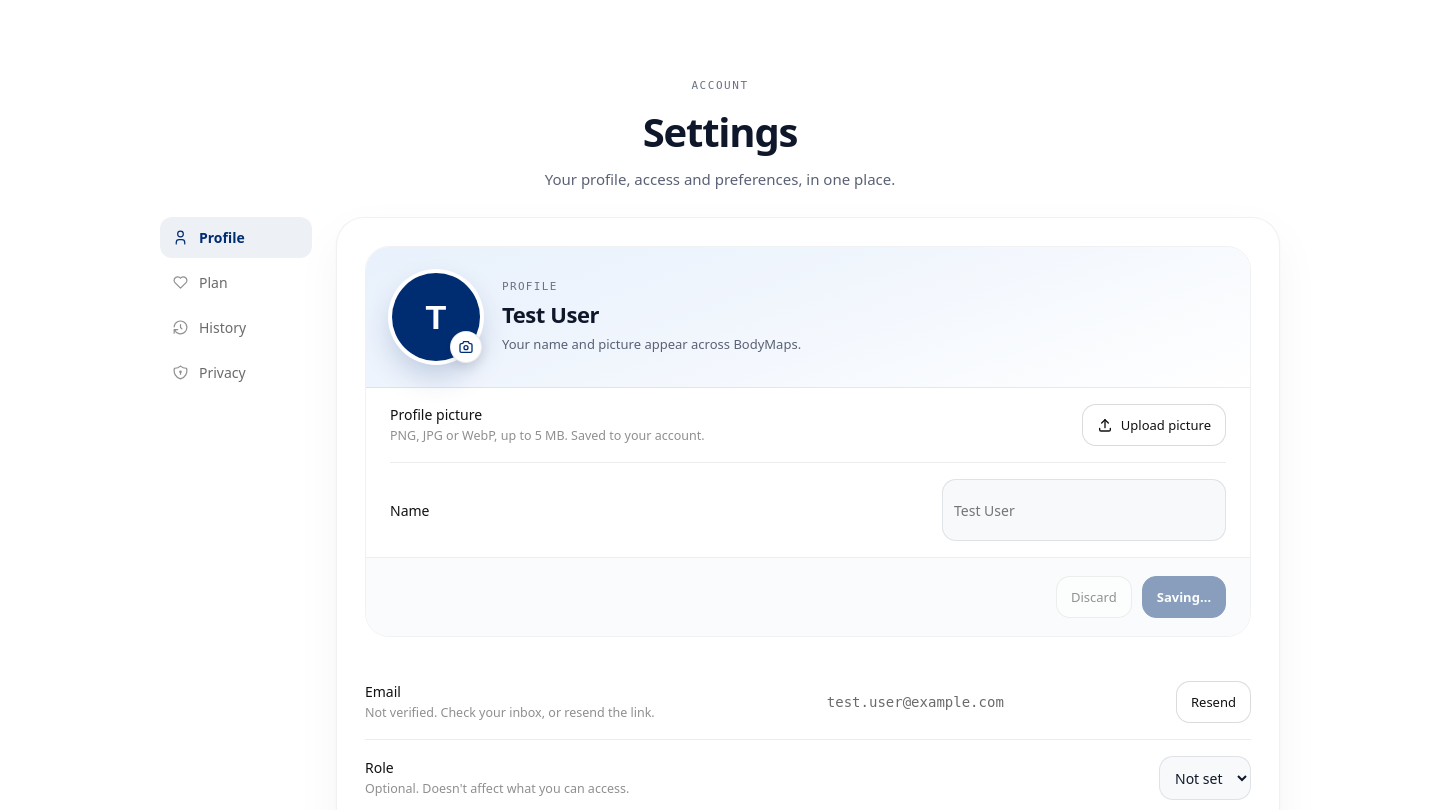
Test: navigation › offers a section per URL
Check: the heading "Profile" is shown, box [502,280,558,293]
Click the link "Plan".
click(200, 282)  # box [172,273,228,292]
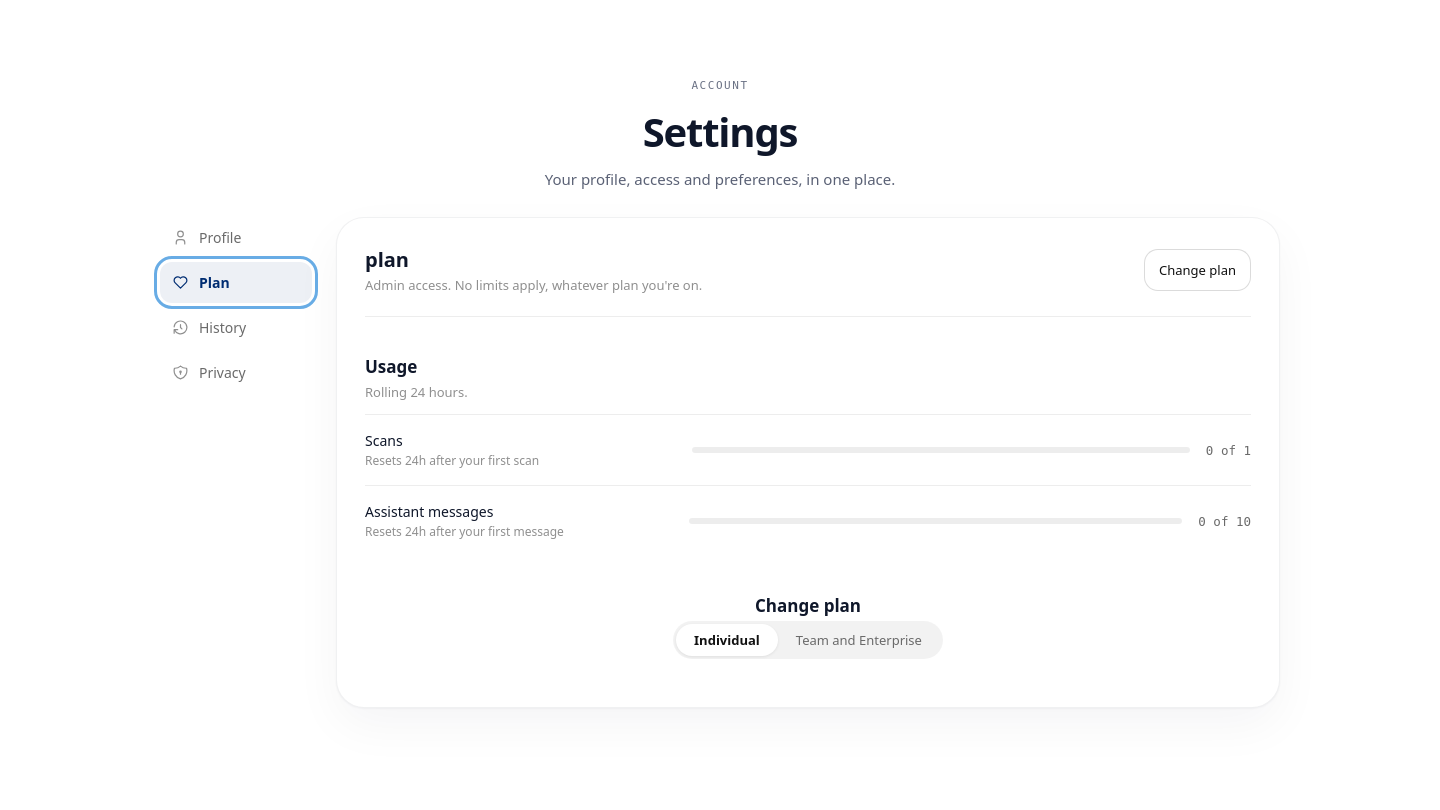
Check: the heading "Usage" is shown, box [365,355,417,378]
Click the link "History".
click(209, 328)  # box [172,318,246,337]
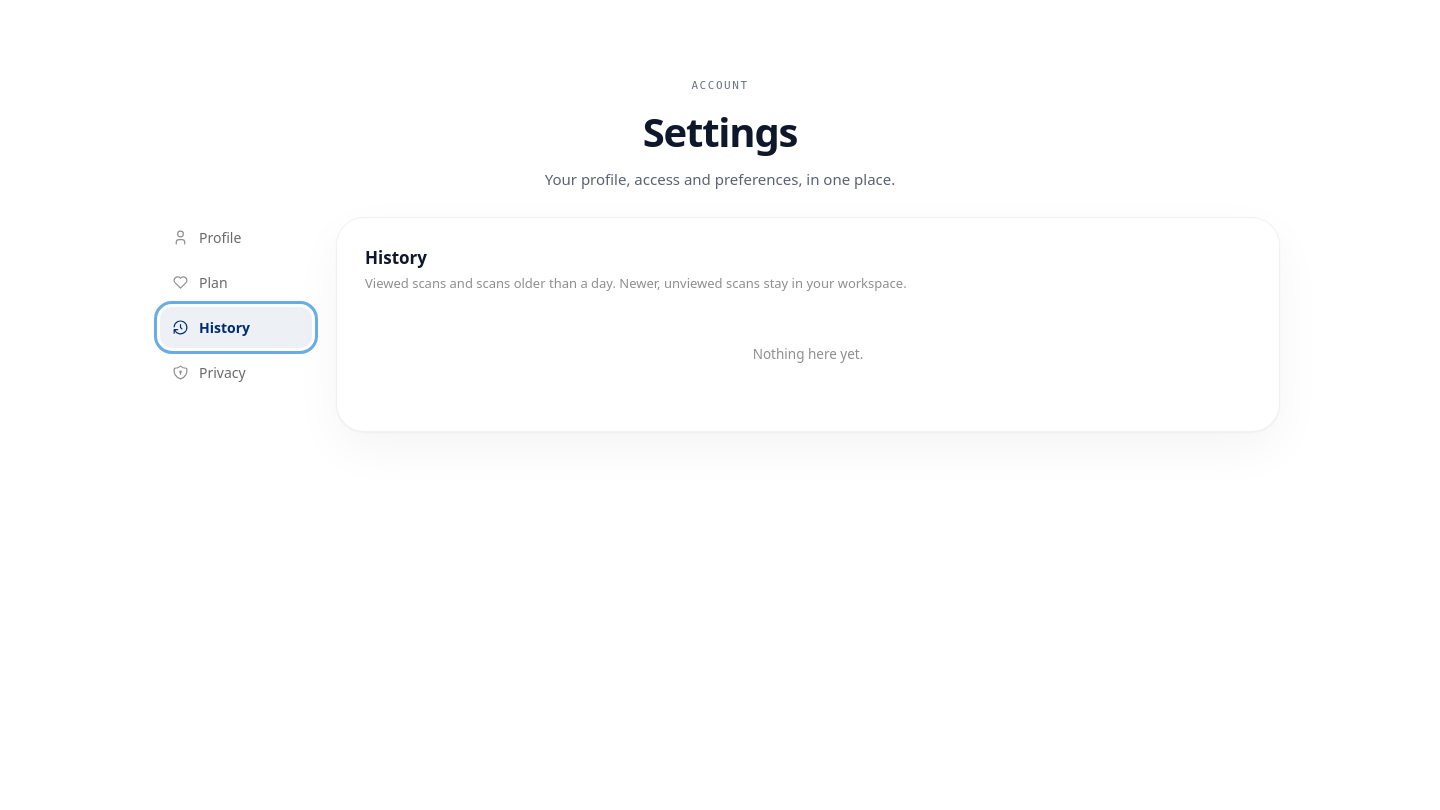
Check: the heading "History" is shown, box [365,246,427,269]
Click the link "Privacy".
click(209, 372)  # box [172,363,246,382]
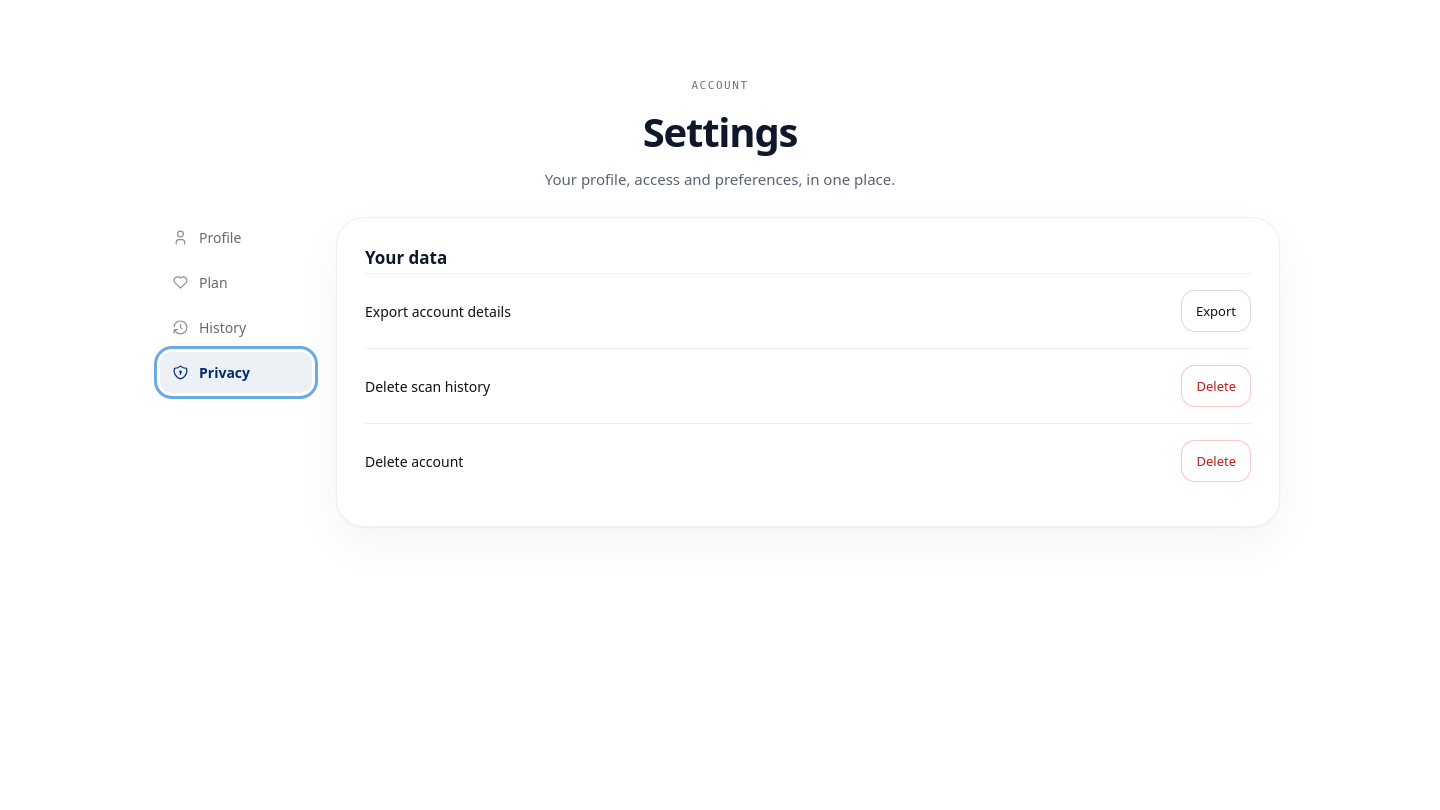
Check: the heading "Your data" is shown, box [365,246,447,269]
